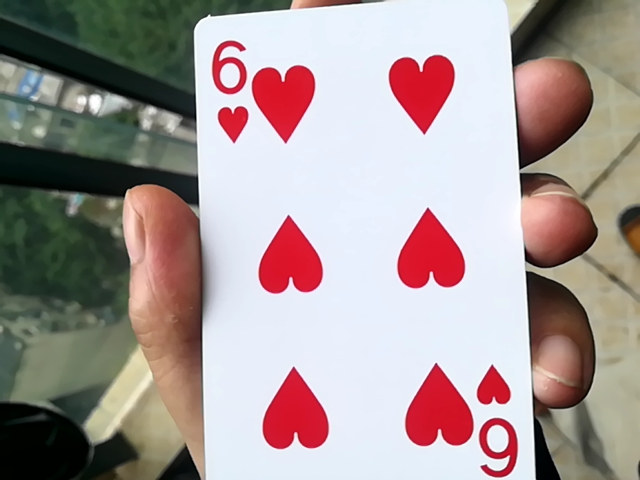hx 6: (187, 8, 533, 480)
